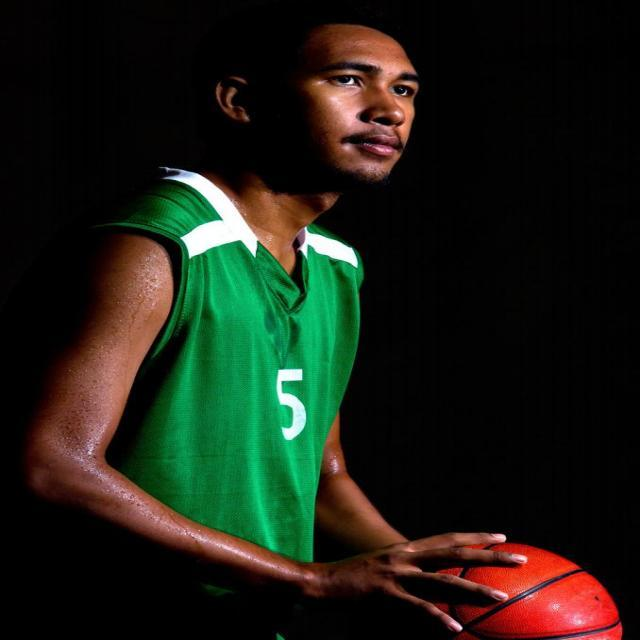rim: (418, 541, 620, 640)
